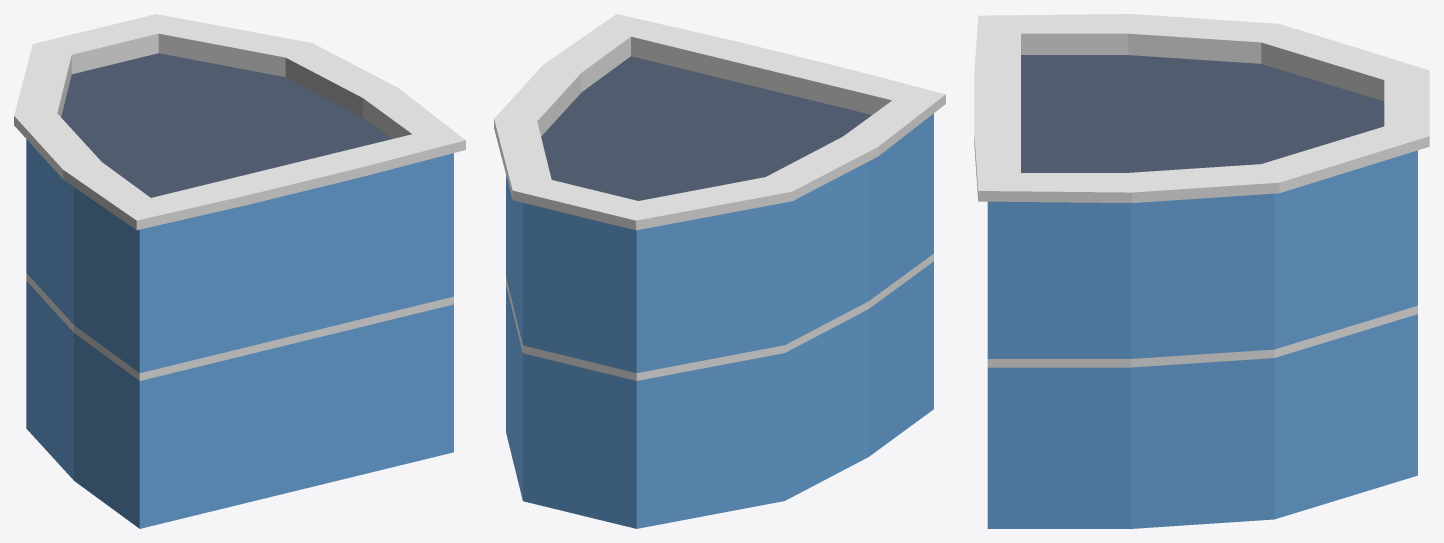
File: building_1x1_11_r.glb
3 views of the same model, side by side, from view 1: azimuth 30°, elevation 25°; view 2: azimuth 150°, elevation 25°; view 3: azimuth 270°, elevation 25° (orthographic). The views are drawn at different scales.
Visible parts, largest first — view 1: Cube.002; view 2: Cube.002; view 3: Cube.002.
Part boxes in pixels (<box>): Cube.002: <box>14,14,465,528</box>; Cube.002: <box>494,14,945,528</box>; Cube.002: <box>974,14,1429,528</box>.
Bounding box in the file's own units: 1.79 × 1.6 × 1.93.
